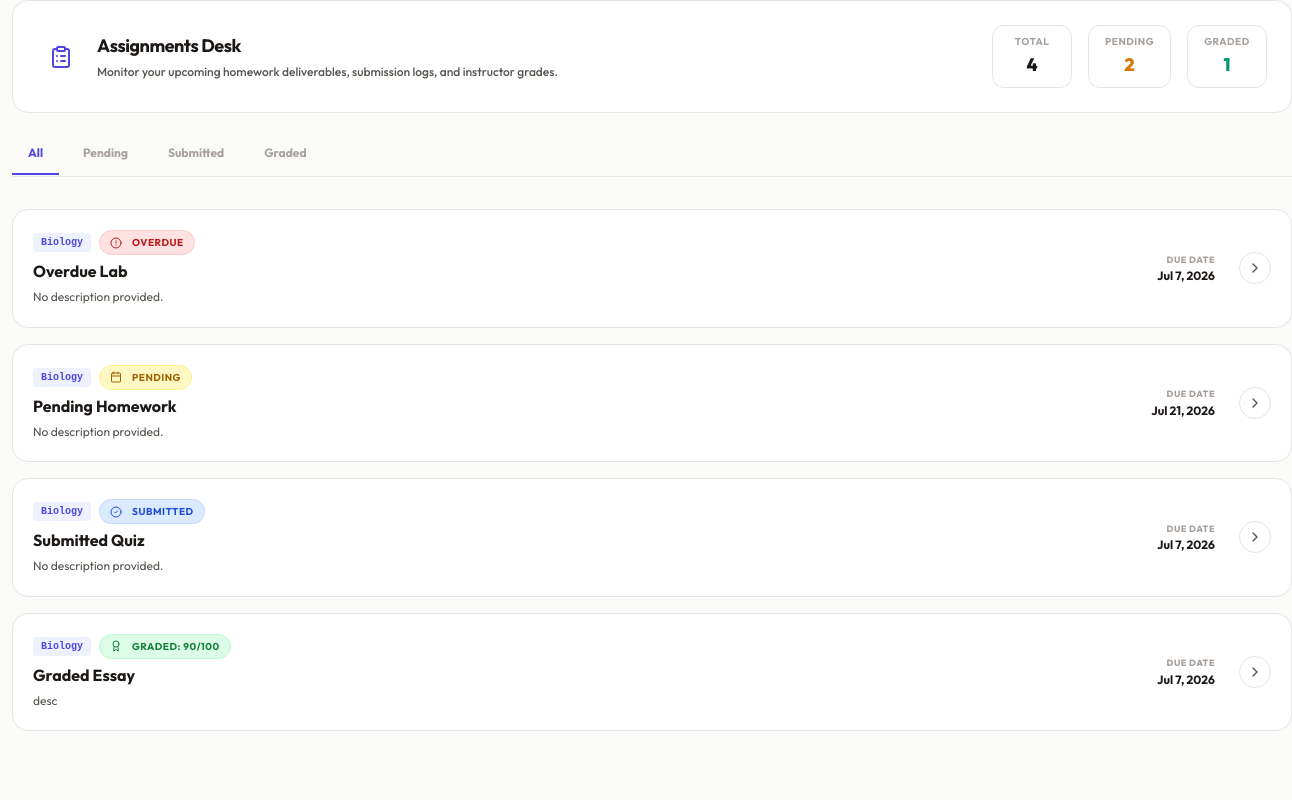
Test case: AssignmentsPage › renders all assignment statuses for a student and filters by tab
Check: the heading "Graded Essay" is shown, box [33, 664, 135, 684]
Check: the text "Graded: 90/100" is shown, box [99, 634, 231, 658]
Click the button "graded": (285, 160) [248, 145, 323, 175]
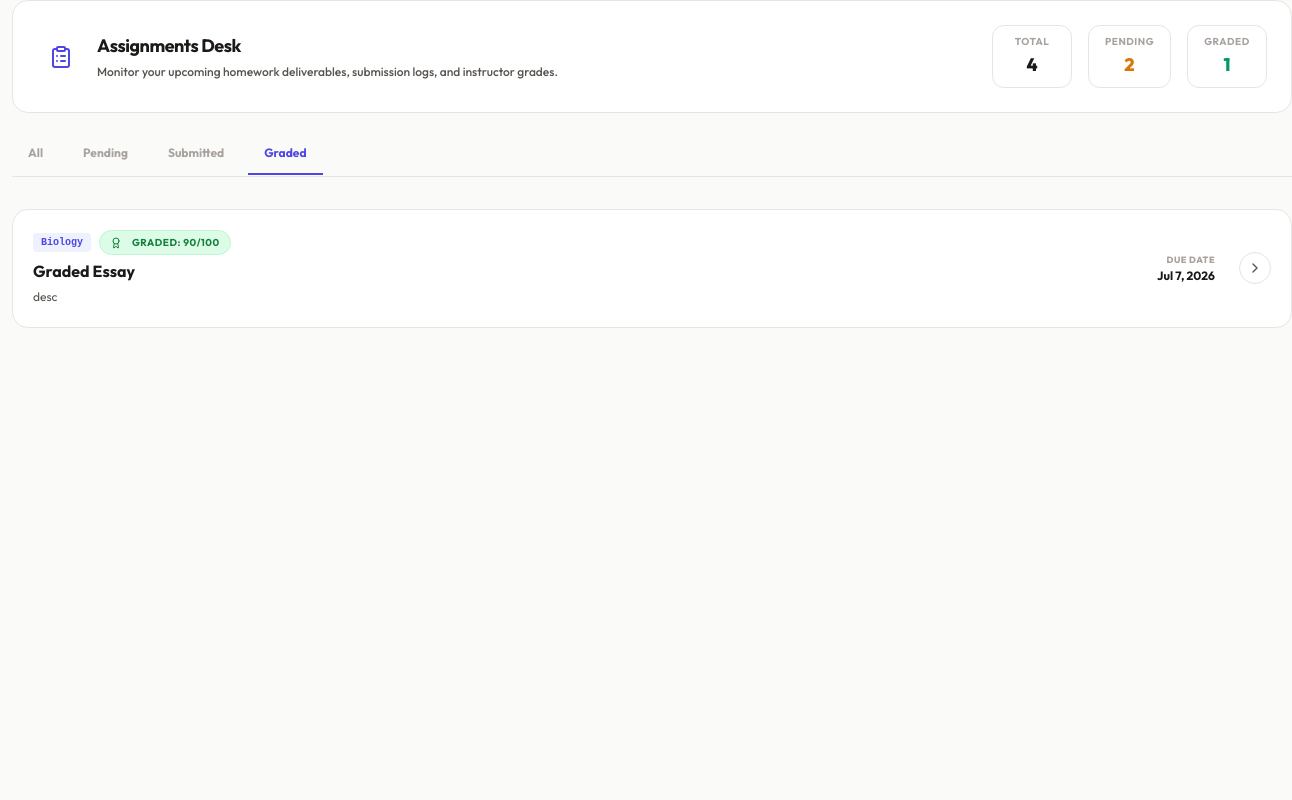
Check: the heading "Graded Essay" is shown, box [33, 261, 135, 281]
Check: the heading "Pending Homework" is gone
